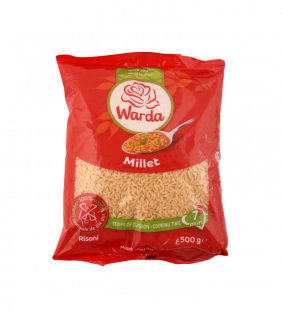LA ROSE BLANCHE: (48, 47, 233, 271)
